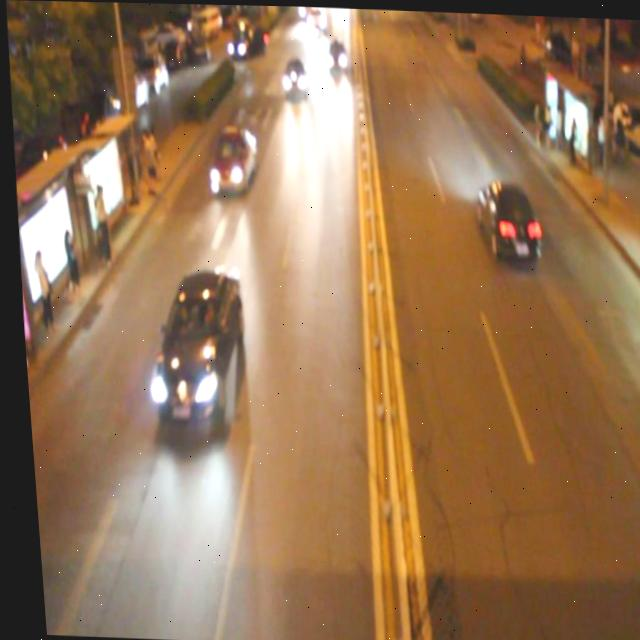car: (139, 267, 244, 434), (471, 176, 537, 258), (205, 121, 257, 196), (279, 55, 307, 96), (323, 35, 347, 71)
